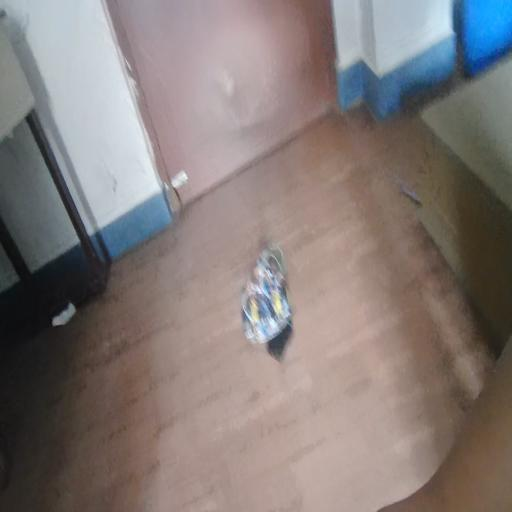car: (250, 270, 286, 351)
